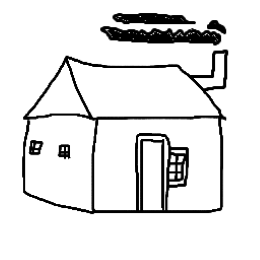closed_window: (25, 137, 47, 157), (55, 140, 76, 160)
door: (131, 132, 172, 216)
roof: (18, 53, 241, 123)
smoking_chimney: (96, 6, 243, 92)
wall: (85, 110, 229, 228)
